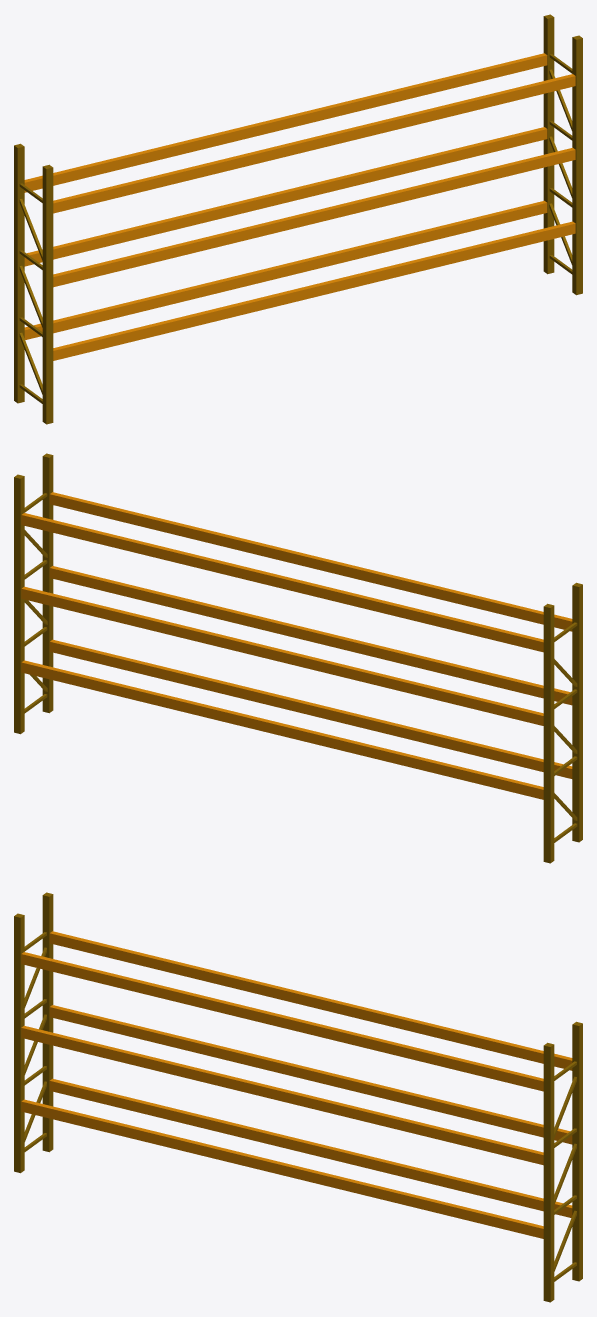
The model's file is SM_ShelfB_01.fbx.
3 views of the same model, one above another, from view 1: azimuth 30°, elevation 25°; view 2: azimuth 150°, elevation 25°; view 3: azimuth 330°, elevation 25° (orthographic).
Parts seen in each view (by area): view 1: SM_Shelf_B_01; view 2: SM_Shelf_B_01; view 3: SM_Shelf_B_01.
Part boxes in pixels (x1,y1,x2,y2): SM_Shelf_B_01: (14,14,582,424); SM_Shelf_B_01: (14,453,582,863); SM_Shelf_B_01: (14,892,582,1302).
Bounding box in the file's own units: 1215 × 553 × 127.
